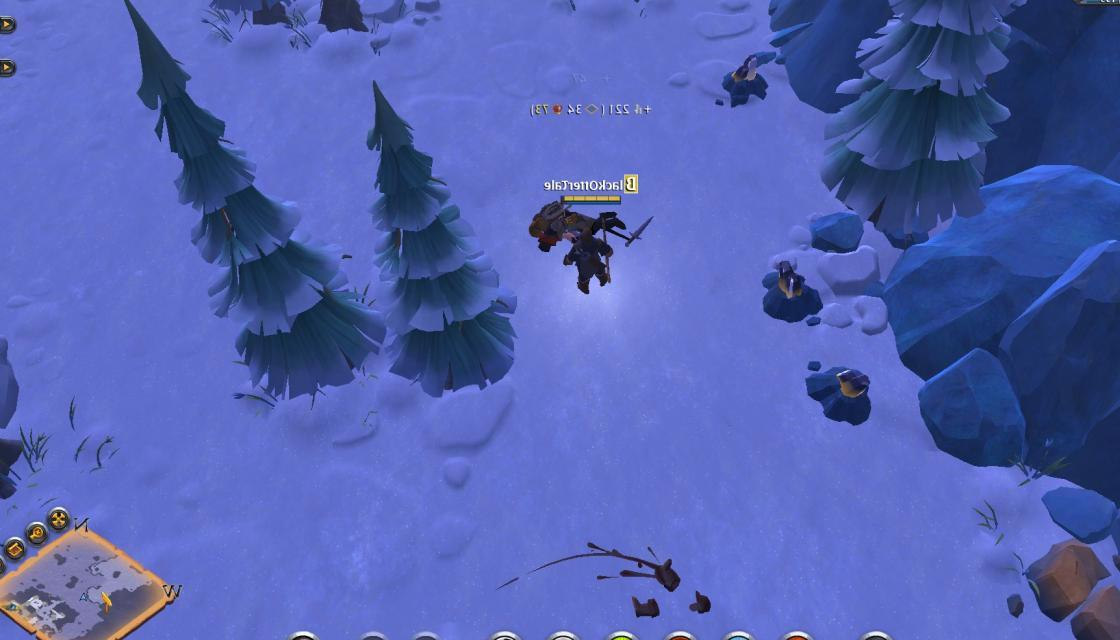copperore: (757, 258, 824, 326), (804, 364, 875, 428), (718, 52, 771, 111)
limestone: (1029, 535, 1120, 640)
